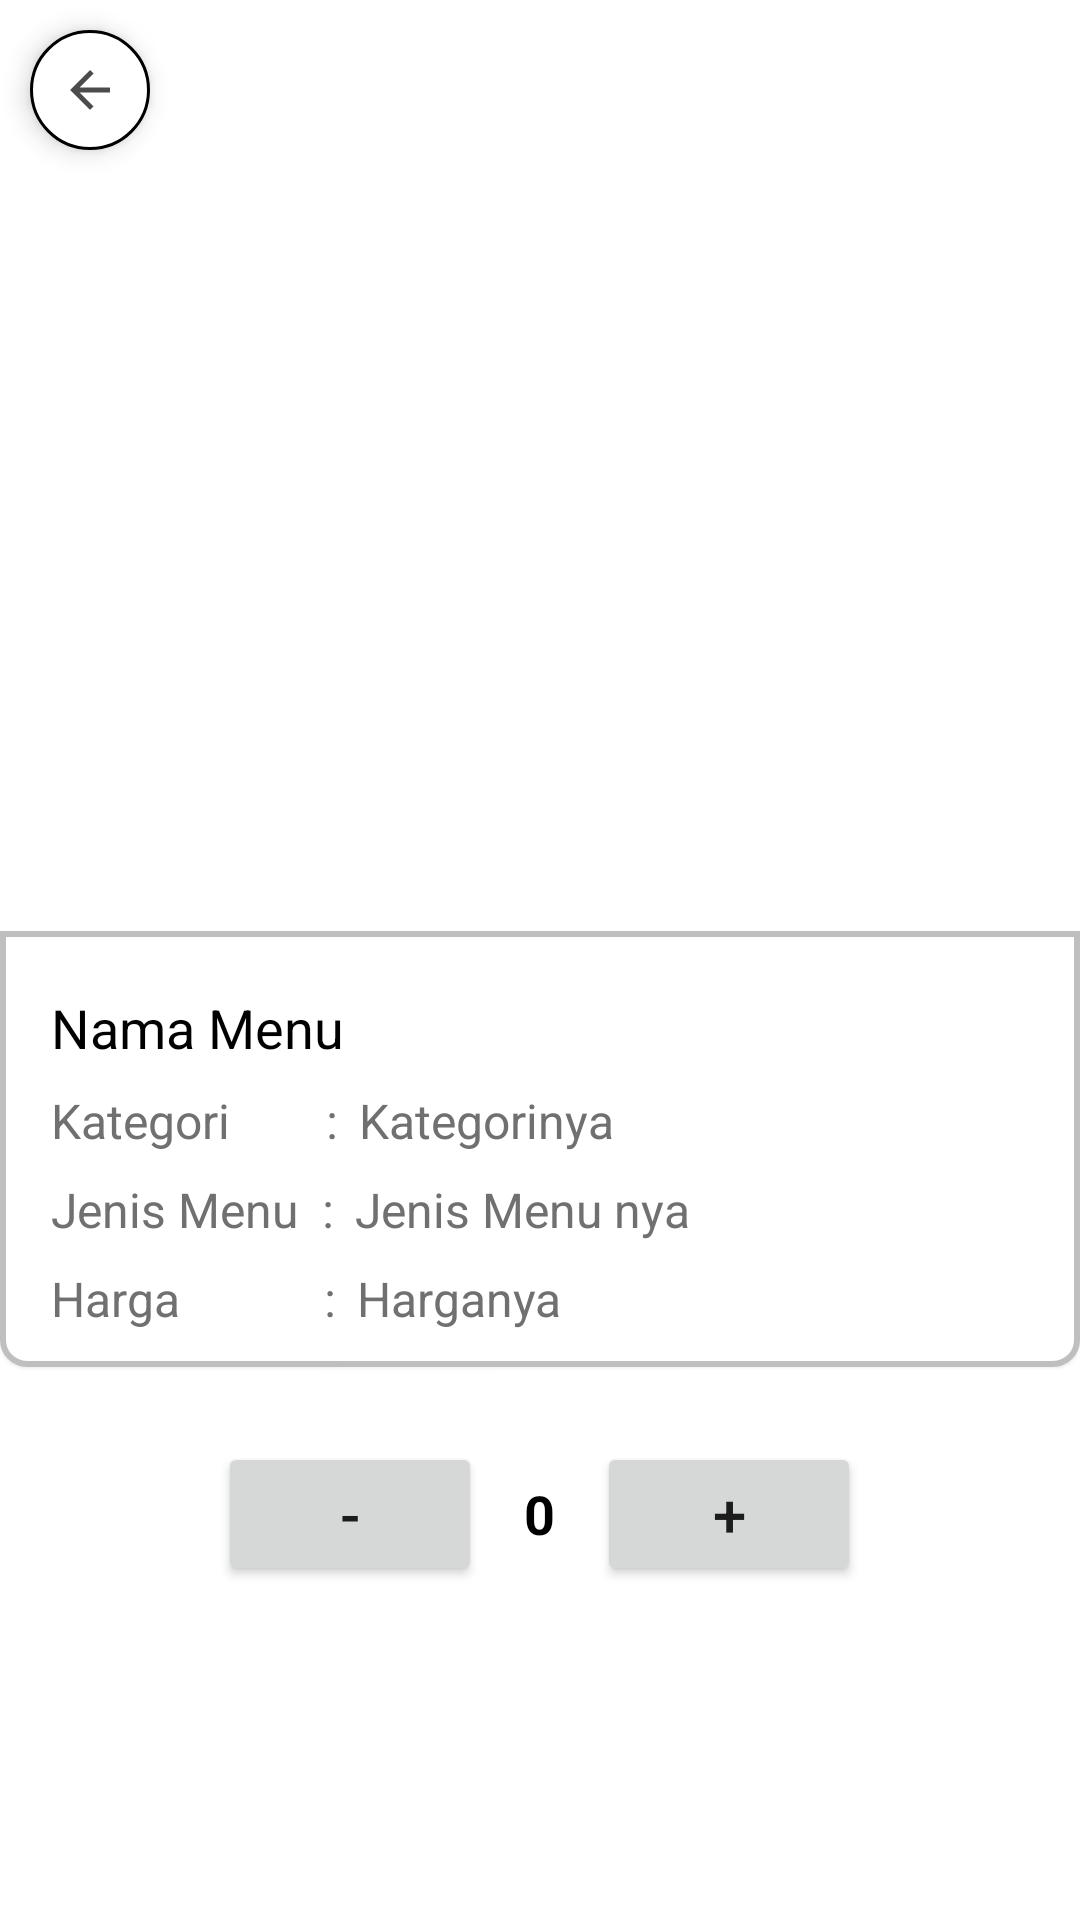

Icons on this 1080*1920 Android screen, each with the point to tap as (x,y):
arrow back: (90,90)
